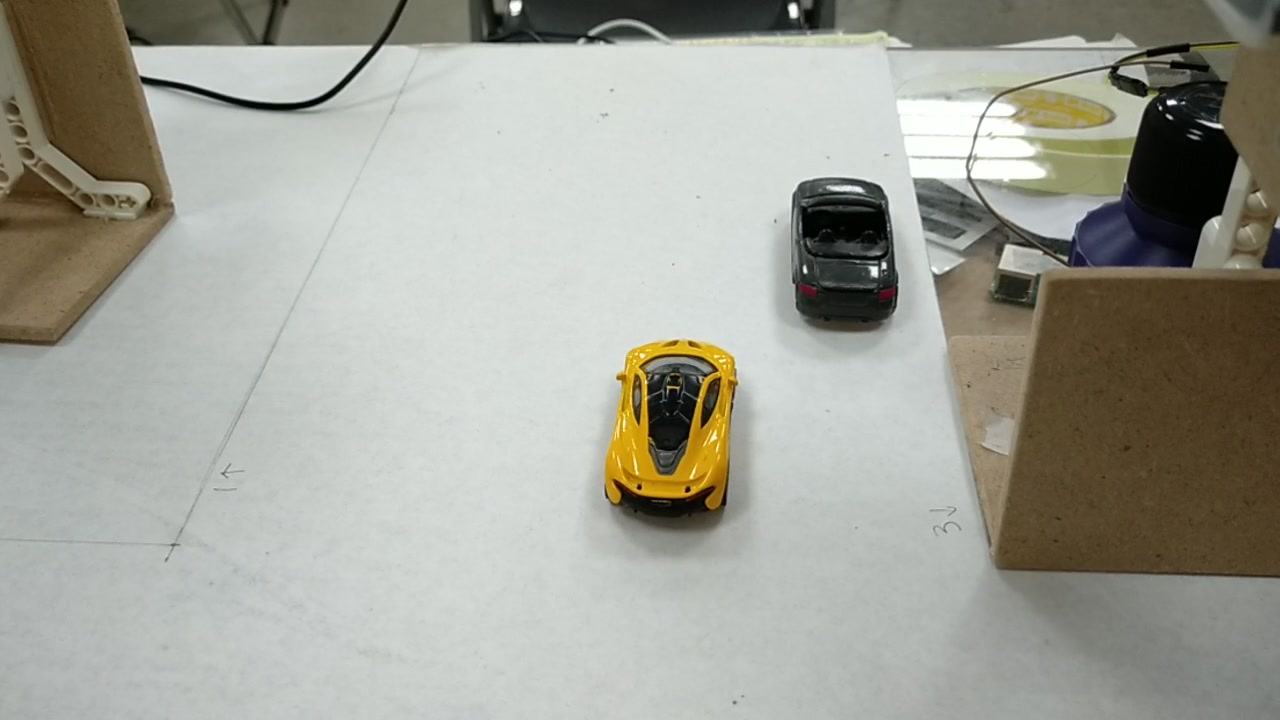car: (608, 346, 742, 502), (795, 174, 890, 310)
